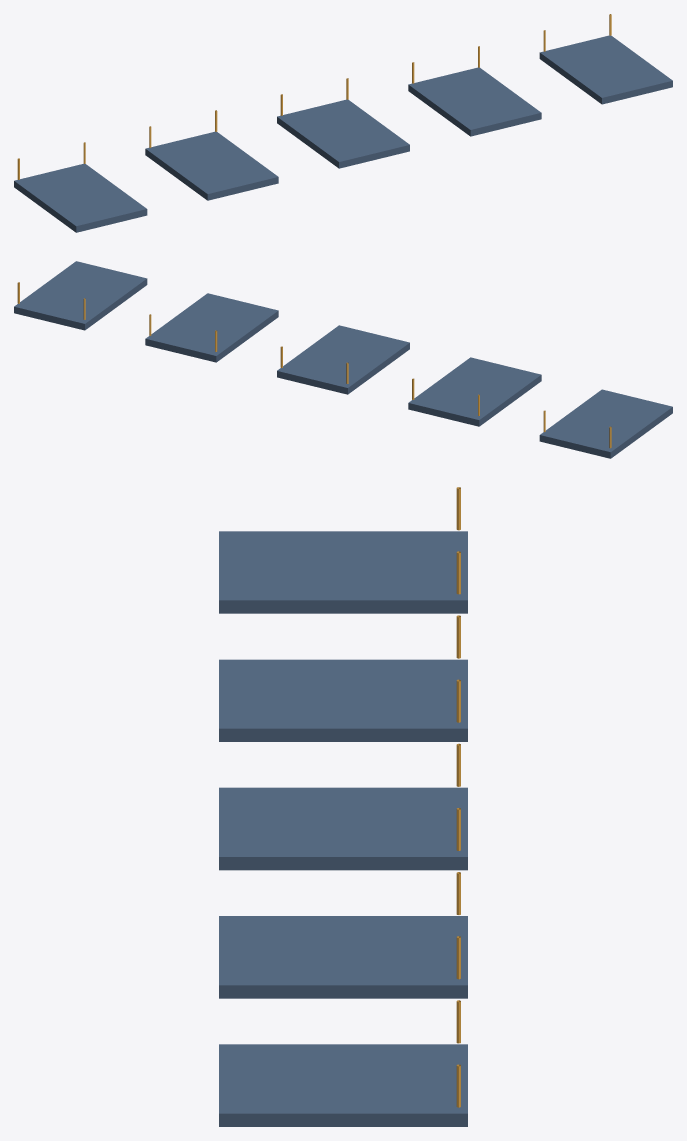
The model's file is 07_L91_XRayObservatoryServicePlatform.fbx.
3 renders of one model, top to bottom at view 1: azimuth 30°, elevation 25°; view 2: azimuth 150°, elevation 25°; view 3: azimuth 270°, elevation 25°, orthographic. The views are drawn at different scales.
Visible parts, largest first — view 1: L91_XRayObservatoryServicePlatform, L91_XRayObservatoryServicePlatform_Part_0001; view 2: L91_XRayObservatoryServicePlatform, L91_XRayObservatoryServicePlatform_Part_0001; view 3: L91_XRayObservatoryServicePlatform, L91_XRayObservatoryServicePlatform_Part_0001.
Boxes of the visible parts, box(x1,y1,x2,y2) form: L91_XRayObservatoryServicePlatform: box(14, 35, 672, 232); L91_XRayObservatoryServicePlatform_Part_0001: box(17, 14, 611, 179); L91_XRayObservatoryServicePlatform: box(14, 261, 672, 458); L91_XRayObservatoryServicePlatform_Part_0001: box(17, 282, 611, 448); L91_XRayObservatoryServicePlatform: box(219, 531, 467, 1126); L91_XRayObservatoryServicePlatform_Part_0001: box(456, 487, 460, 1107).
Bounding box in the file's own units: 2270 × 126 × 410.
